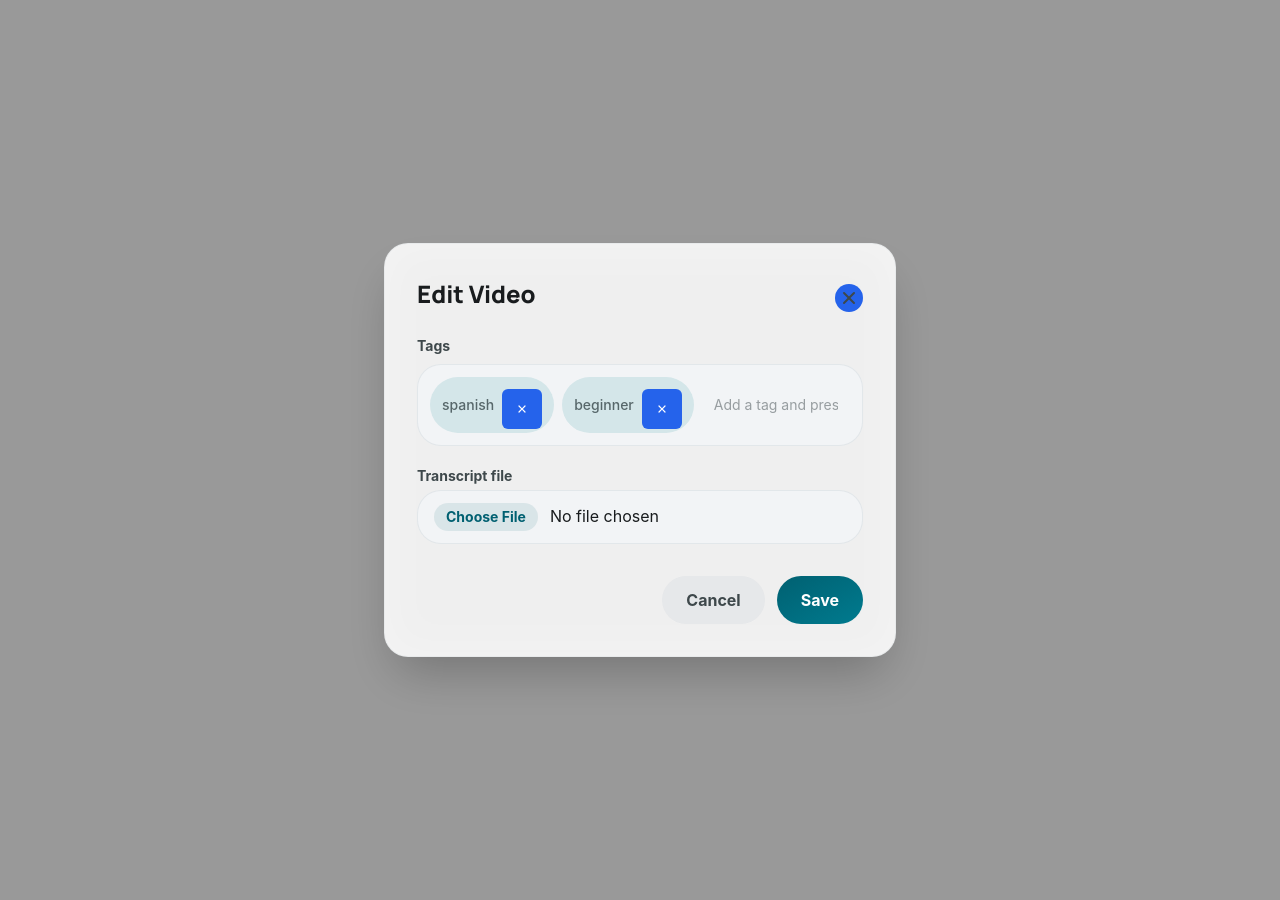
EditVideoModal › shows edit-error testid when save fails
Click the button with test id "save-button". click: click(820, 600)
box: [777,576,863,624]
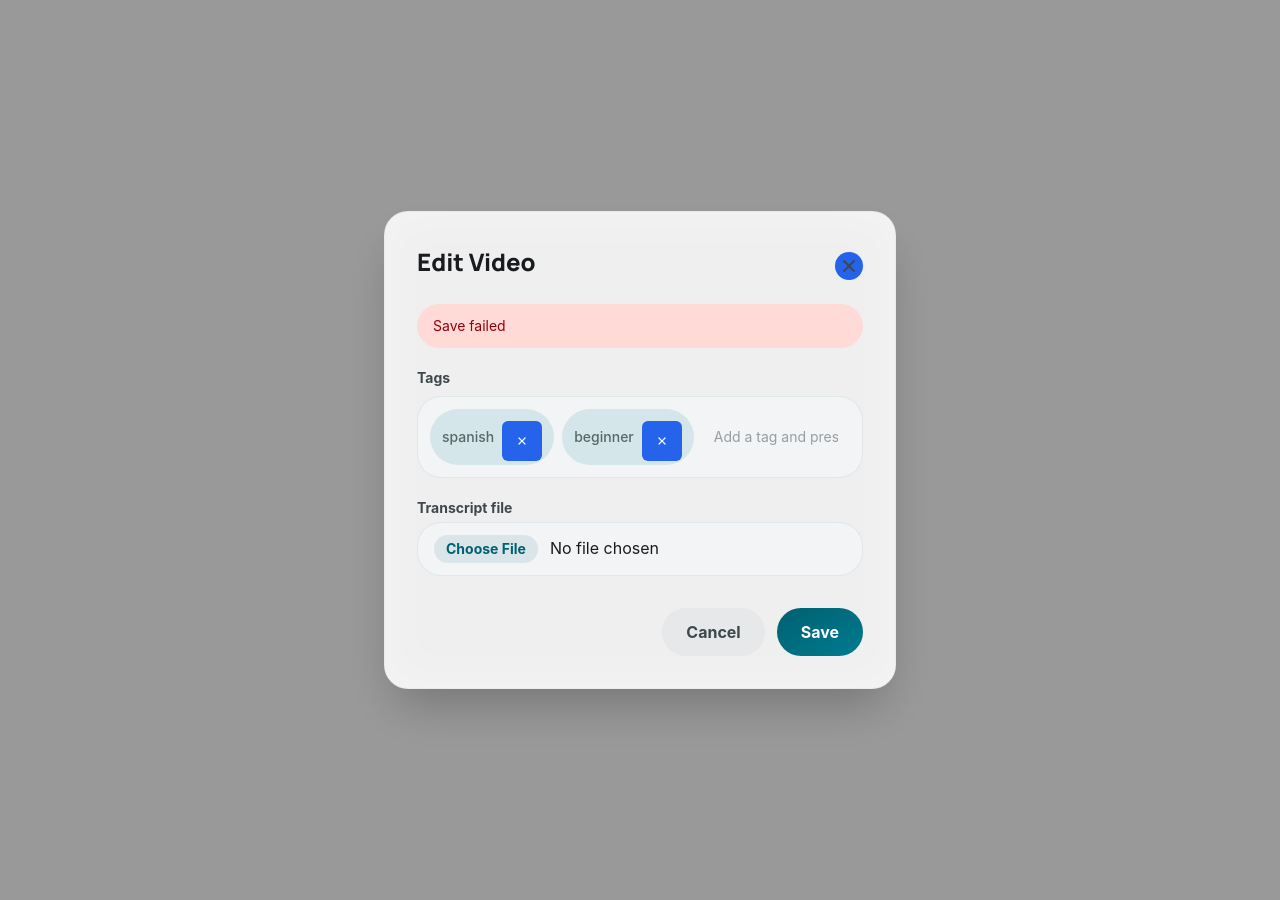
Expected: the message "Save failed" is shown, [417,304,863,348]
Expected: the message with test id "edit-error" reads "Save failed", [433,317,506,334]
